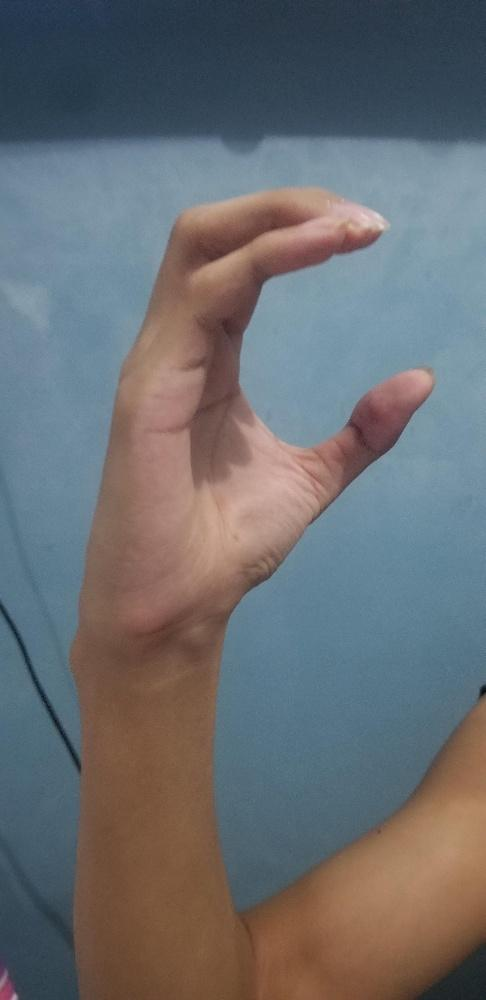c: (65, 180, 437, 675)
